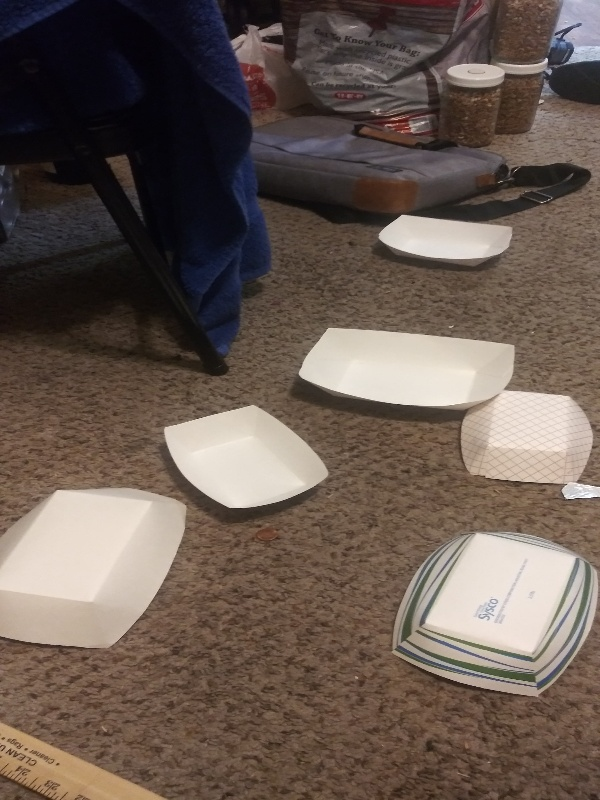plate: (391, 527, 600, 703), (1, 479, 191, 659), (157, 401, 334, 518), (293, 325, 525, 413), (453, 390, 591, 488), (369, 215, 515, 268)
